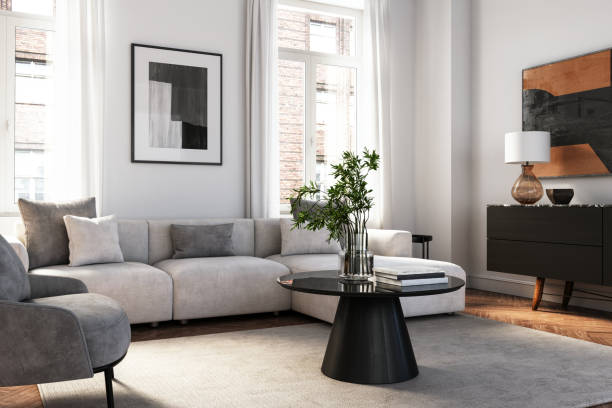chair: (0, 230, 131, 395)
small plant: (287, 146, 381, 282)
sofa: (4, 195, 468, 326)
table: (273, 267, 466, 387)
table lamp: (503, 127, 550, 206)
wall art: (519, 46, 612, 179), (128, 41, 226, 167)
